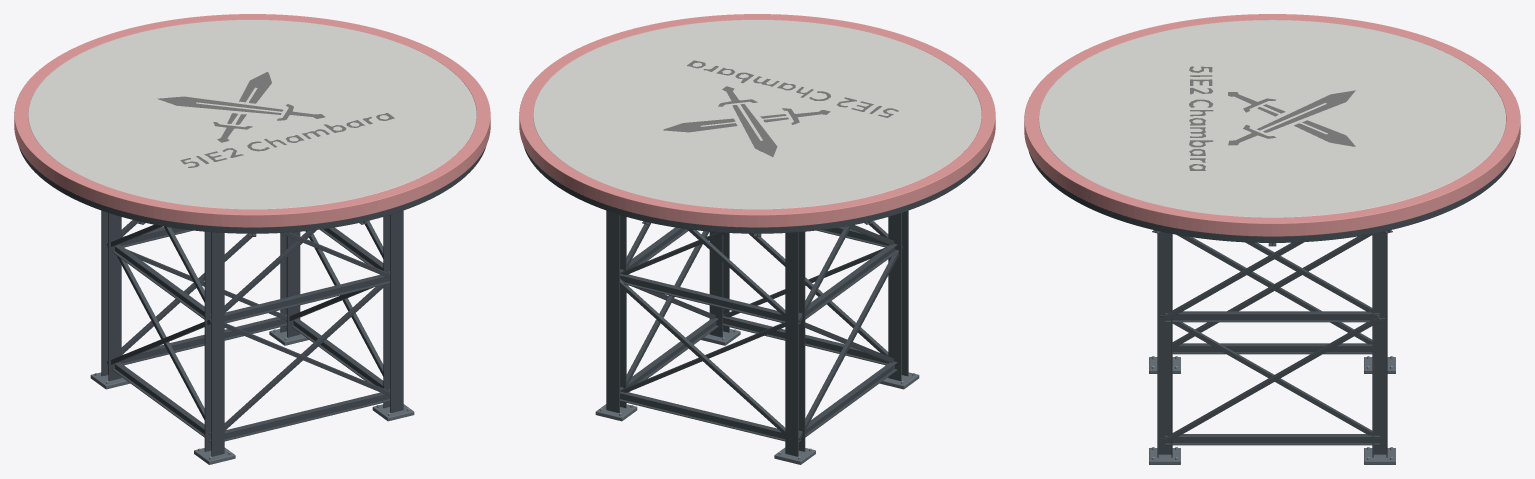
File: ChambaraStage.fbx
3 views of the same model, side by side, from view 1: azimuth 30°, elevation 25°; view 2: azimuth 150°, elevation 25°; view 3: azimuth 270°, elevation 25° (orthographic). The views are drawn at different scales.
Parts seen in each view (by area): view 1: Platform_floor, Pale_red_rim, Steel_column_11, Steel_column_21, Steel_column_12, Center_logo_gray, Underdeck_steel_ring, Horizontal_frontback_-1_0.4, Horizontal_frontback_-1_3.02, Steel_column_22, Horizontal_frontback_1_0.4, X_brace_frontback_-1_0_1 (+14 smaller); view 2: Platform_floor, Pale_red_rim, Steel_column_12, Steel_column_22, Steel_column_11, Center_logo_gray, Underdeck_steel_ring, Horizontal_frontback_1_0.4, Horizontal_frontback_1_3.02, Steel_column_21, X_brace_frontback_1_0_1, Horizontal_frontback_-1_0.4 (+13 smaller); view 3: Platform_floor, Pale_red_rim, Steel_column_22, Steel_column_21, Center_logo_gray, Underdeck_steel_ring, Horizontal_leftright_1_0.4, Horizontal_leftright_1_3.02, Horizontal_leftright_-1_0.4, X_brace_leftright_1_0_1, X_brace_leftright_1_0_-1, X_brace_leftright_-1_0_1 (+3 smaller).
Part boxes in pixels (box(x1,y1,x2,y2)): Platform_floor: box(28, 20, 476, 209); Pale_red_rim: box(14, 14, 490, 227); Steel_column_11: box(204, 231, 224, 456); Steel_column_21: box(383, 210, 403, 412); Steel_column_12: box(101, 210, 121, 381); Center_logo_gray: box(157, 72, 394, 167); Underdeck_steel_ring: box(18, 146, 486, 233); Horizontal_frontback_-1_0.4: box(224, 390, 389, 441); Horizontal_frontback_-1_3.02: box(224, 272, 389, 323); Steel_column_22: box(280, 231, 300, 337); Horizontal_frontback_1_0.4: box(121, 314, 286, 365); X_brace_frontback_-1_0_1: box(224, 284, 386, 430); Platform_floor: box(533, 20, 981, 209); Pale_red_rim: box(519, 14, 995, 227); Steel_column_12: box(785, 231, 805, 456); Steel_column_22: box(606, 210, 626, 412); Steel_column_11: box(888, 210, 908, 381); Center_logo_gray: box(663, 60, 898, 156); Underdeck_steel_ring: box(523, 146, 991, 233); Horizontal_frontback_1_0.4: box(620, 391, 785, 441); Horizontal_frontback_1_3.02: box(620, 273, 785, 323); Steel_column_21: box(709, 231, 729, 337); X_brace_frontback_1_0_1: box(620, 279, 785, 435); Horizontal_frontback_-1_0.4: box(723, 314, 888, 365); Platform_floor: box(1039, 20, 1505, 217); Pale_red_rim: box(1024, 14, 1520, 236); Steel_column_22: box(1372, 232, 1387, 457); Steel_column_21: box(1157, 232, 1172, 457); Center_logo_gray: box(1189, 66, 1355, 170); Underdeck_steel_ring: box(1029, 152, 1515, 242); Horizontal_leftright_1_0.4: box(1165, 434, 1379, 445); Horizontal_leftright_1_3.02: box(1165, 311, 1379, 322); Horizontal_leftright_-1_0.4: box(1172, 343, 1372, 354); X_brace_leftright_1_0_1: box(1163, 315, 1381, 443); X_brace_leftright_1_0_-1: box(1172, 322, 1372, 435); X_brace_leftright_-1_0_1: box(1172, 234, 1372, 348).
Bounding box in the file's own units: 960 × 628 × 960.
